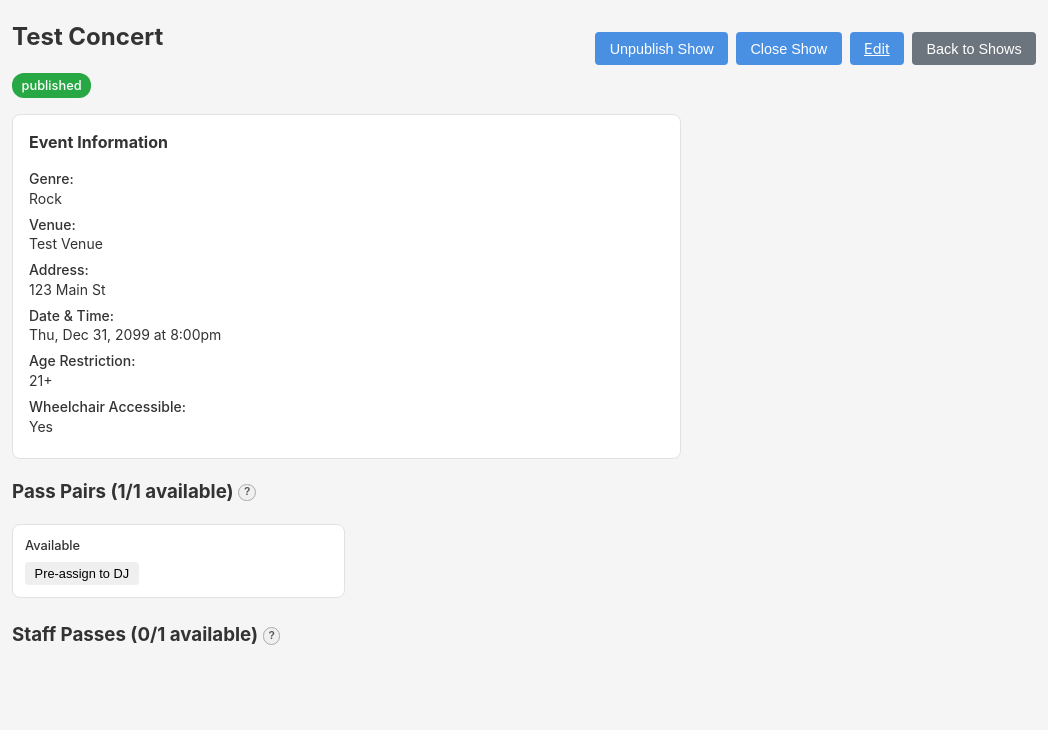
Test: Promotions ShowDetail — leave of absence › labels genre suggestions for DJs on leave
The width and height of the screenshot is (1048, 730).
What coordinates should you click on to do the following:
click the button "Pre-assign to DJ"
I would click on:
 (82, 574)
Its box is [25,562,139,585].
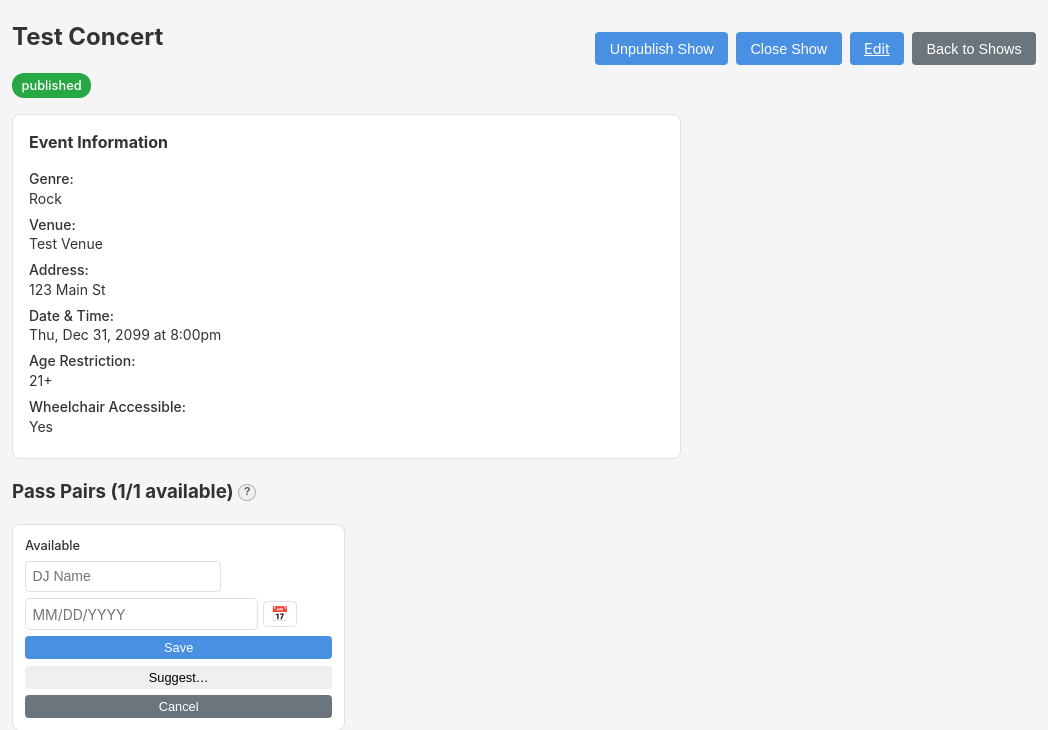
What coordinates should you click on to do the following:
click the button "Suggest…"
I would click on:
 (179, 677)
Its box is [25,666,332,689].
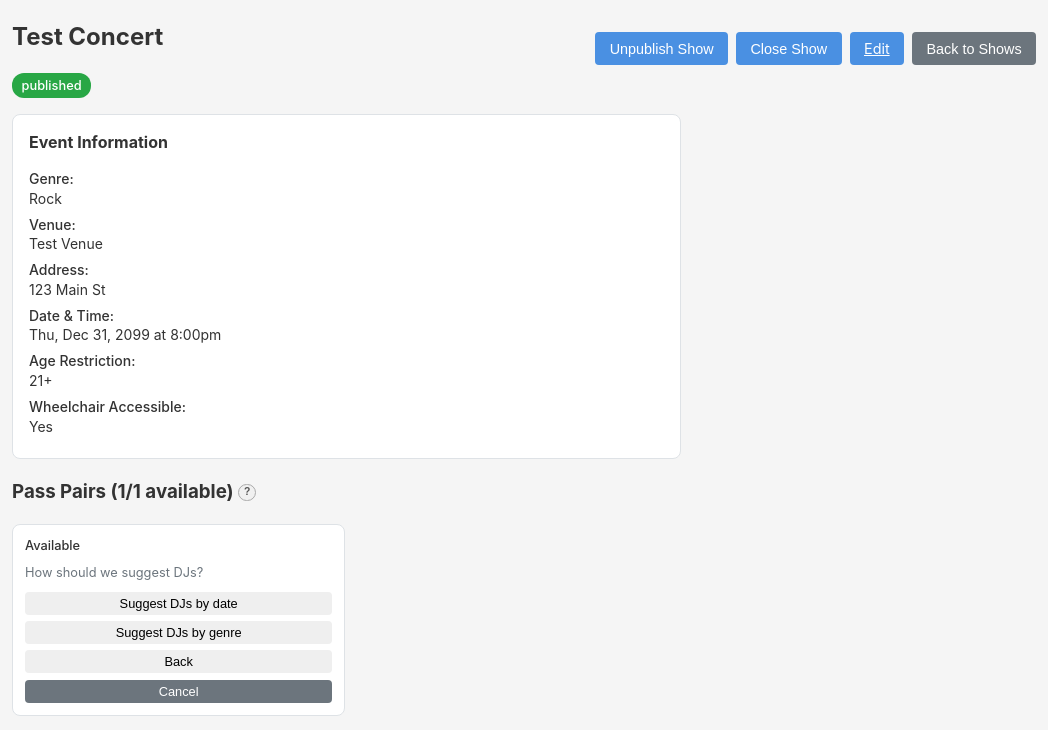
What coordinates should you click on to do the following:
click the button "Suggest DJs by genre"
I would click on:
 (179, 632)
Its box is [25,621,332,644].
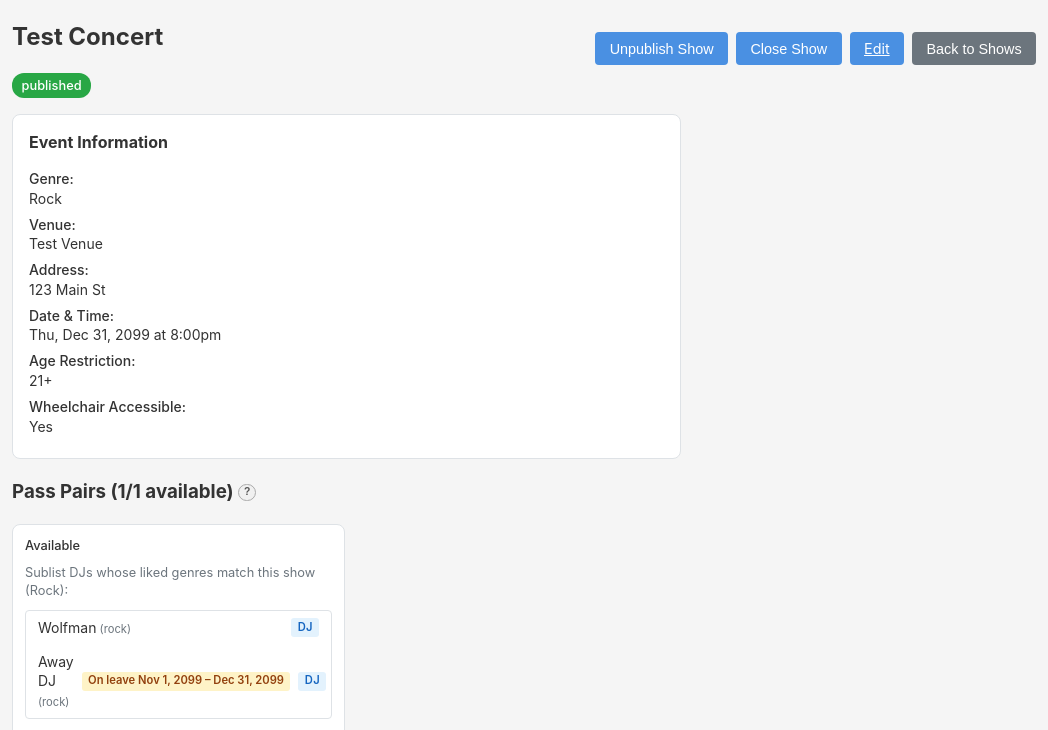
expect the text "On leave Nov 1, 2099 – Dec 31, 2099" is shown once: met, box [82,672,290,691]
